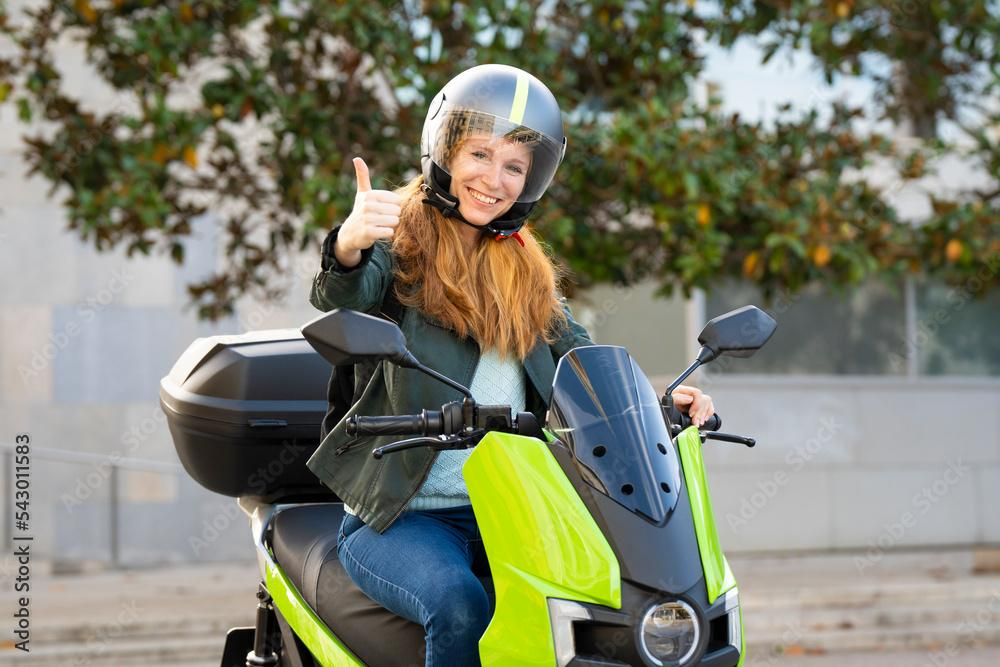helmet: (419, 63, 568, 248)
